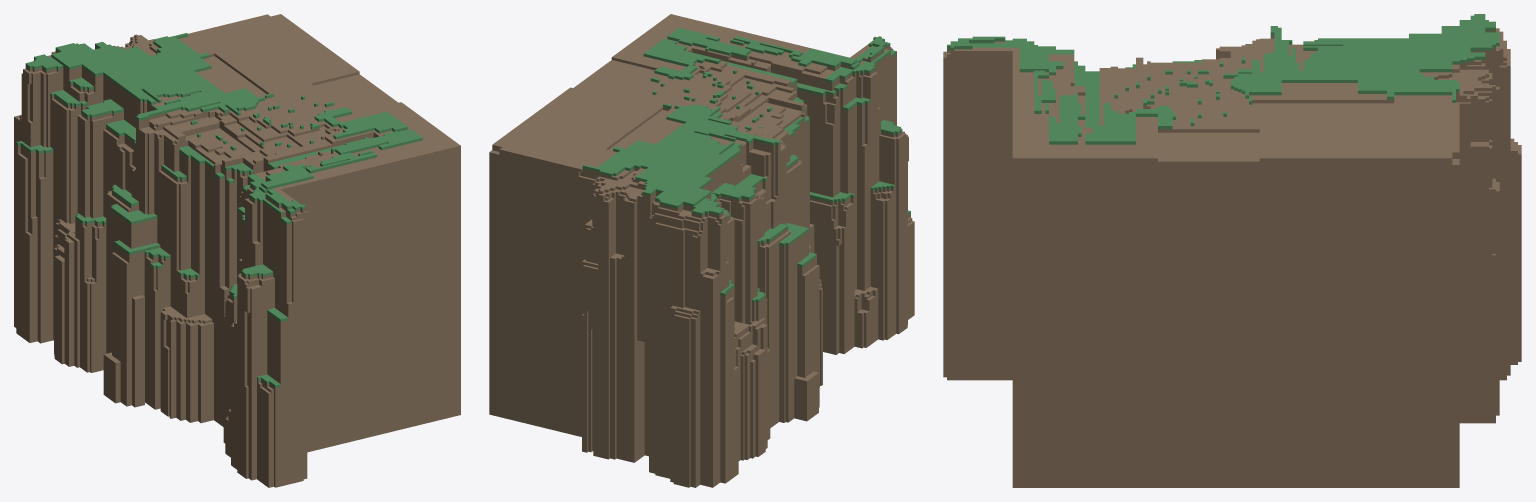
The model's file is Cubeland-28.obj.
3 renders of one model, left to right at view 1: azimuth 30°, elevation 25°; view 2: azimuth 150°, elevation 25°; view 3: azimuth 270°, elevation 25°, orthographic. The views are drawn at different scales.
Size of the model in its own units: 9.7 by 10.1 by 15.9.
Materials: 1 (1 with a texture image).
